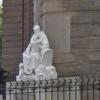Statue: (11, 17, 75, 82)
